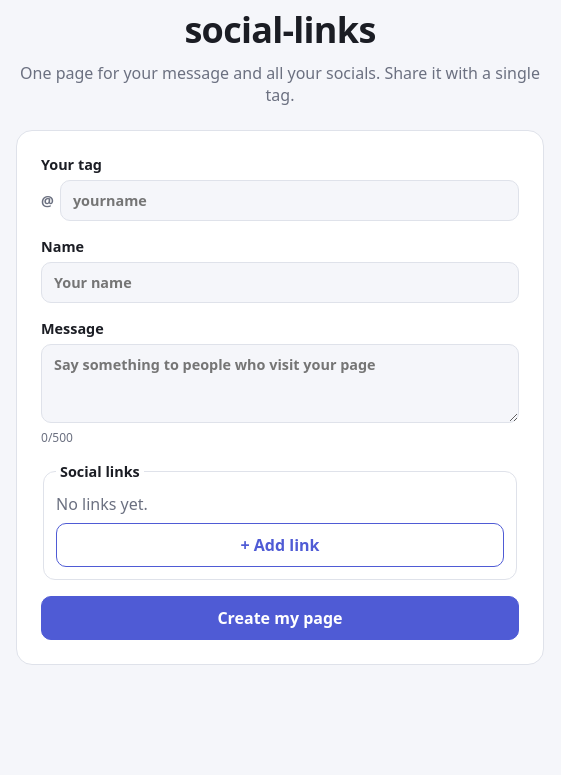
Test case: CreatePage › shows server errors such as a taken tag
This screenshot has width=561, height=775.
Type "ada" into the field with placeholder "yourname" at (289, 200), box [60,180,519,221]
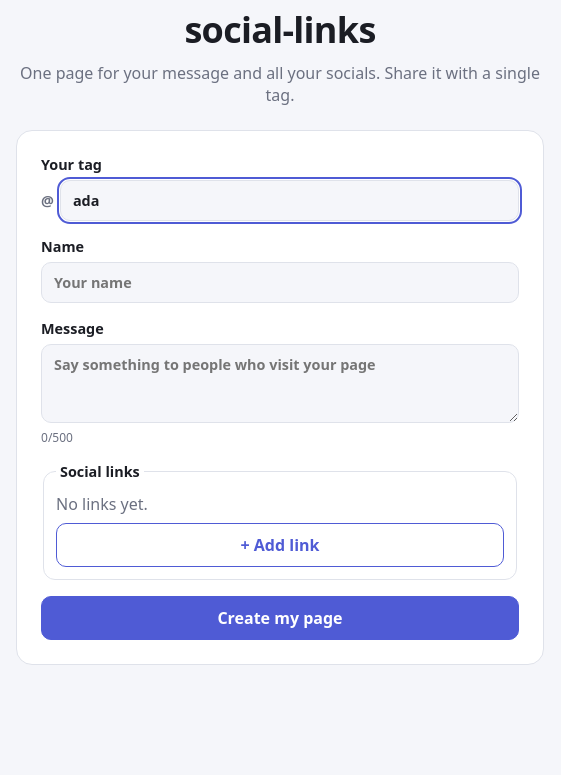
Type "Ada" into the field with placeholder "Your name" at (280, 282), box [41,262,519,303]
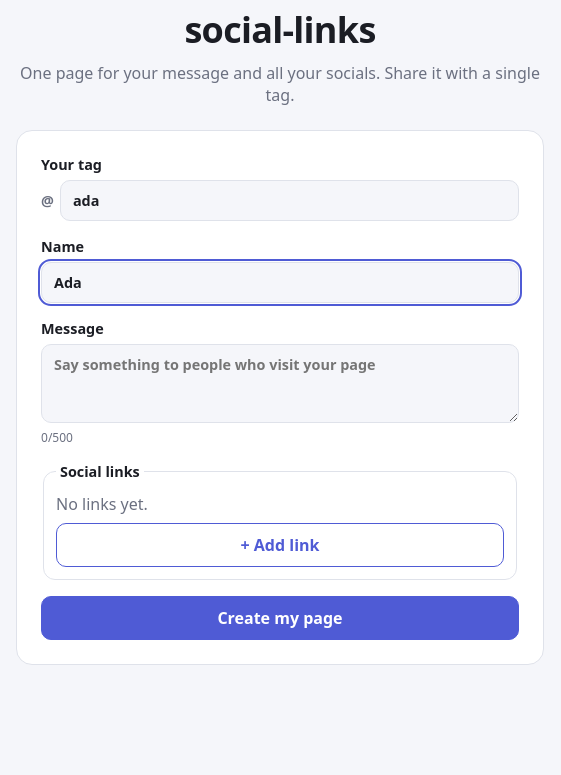
Click the button "Create my page" at (280, 618), box [41,596,519,640]
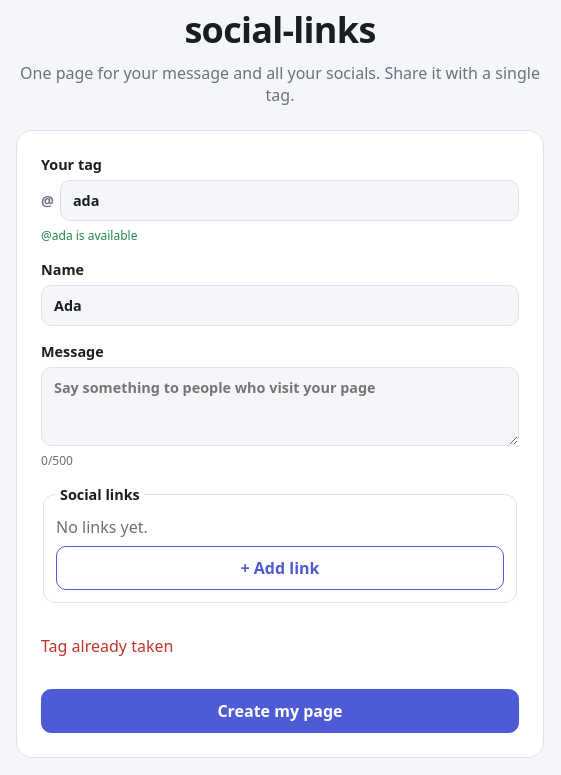
Result: the message "Tag already taken" is shown at [41,635,173,657]
